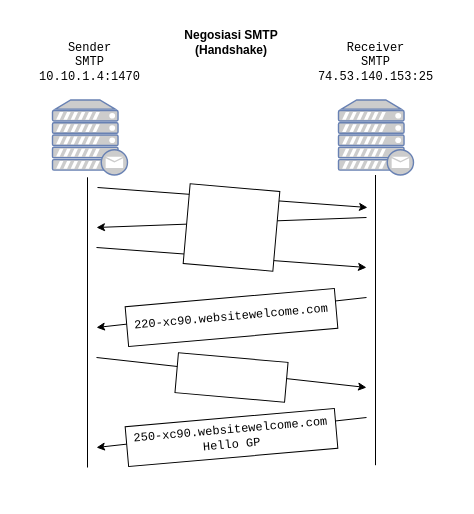
Some shapes in this 474 by 514 pixel diagram are drawn without their labels. Each missing label, with the centre of its shape:
3 way Handshake: [231,227]
EHLO GP: [231,377]
